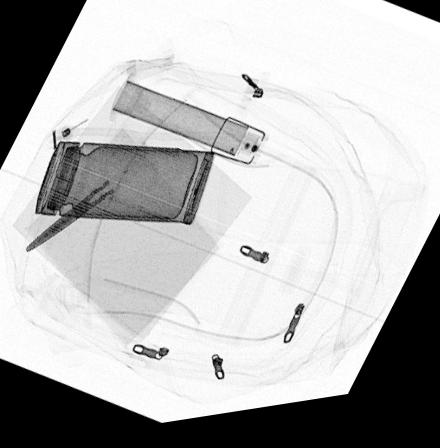Scissors: (21, 137, 162, 257)
